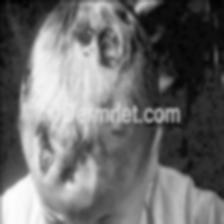Unclassified: (68, 17, 122, 72), (34, 129, 56, 174)
